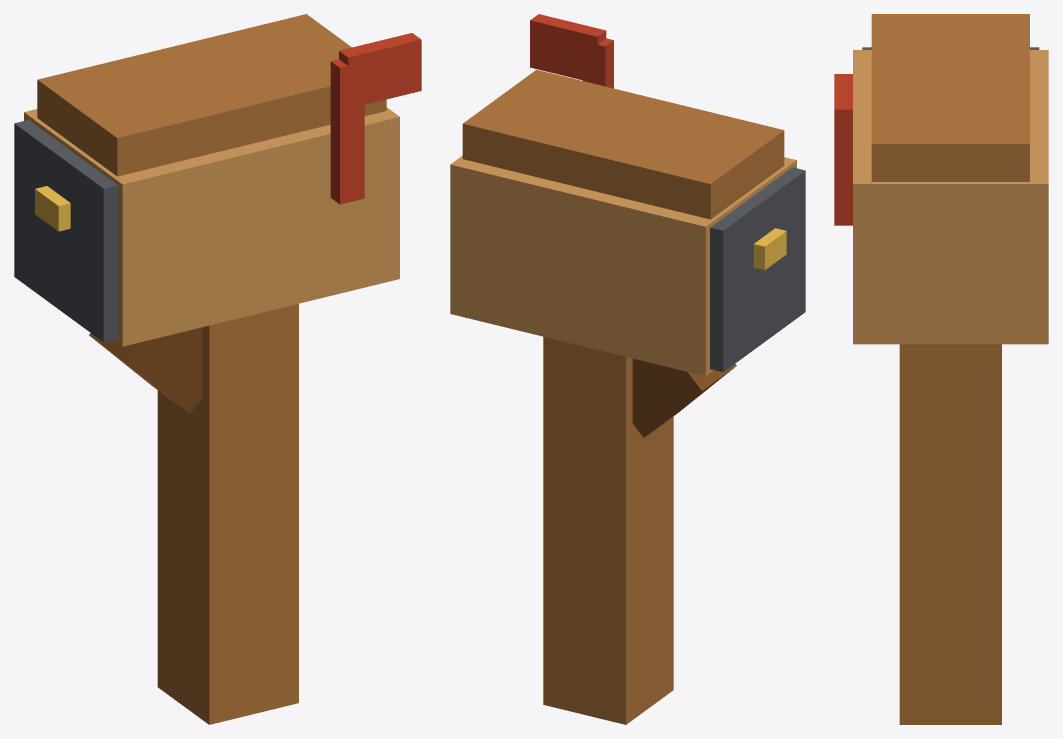
File: prop-mailbox.glb
The picture shows the model from 3 angles, left to right: view 1: azimuth 30°, elevation 25°; view 2: azimuth 150°, elevation 25°; view 3: azimuth 270°, elevation 25°; orthographic projection. The views are drawn at different scales.
Parts seen in each view (by area): view 1: Post, Box, Arch, Door, Brace, Stem, Pennant, Latch; view 2: Post, Box, Arch, Door, Brace, Pennant, Stem, Latch; view 3: Post, Box, Arch, Pennant, Stem.
Boxes of the visible parts, x1,y1,x2,y2 form: Post: (157,303,298,724); Box: (24,107,399,346); Arch: (37,14,386,176); Door: (14,120,117,342); Brace: (89,327,202,413); Stem: (330,59,364,204); Pennant: (339,33,421,108); Latch: (35,186,70,231); Post: (543,336,673,724); Box: (450,155,796,376); Arch: (462,69,784,219); Door: (710,167,805,372); Brace: (632,358,736,437); Pennant: (530,14,606,81); Stem: (582,38,613,88); Latch: (753,228,786,270); Post: (899,344,1001,724); Box: (853,50,1048,344); Arch: (871,14,1029,181); Pennant: (834,74,852,160); Stem: (834,160,852,225).
Bounding box in the file's own units: 0.775 × 1.56 × 0.46.
